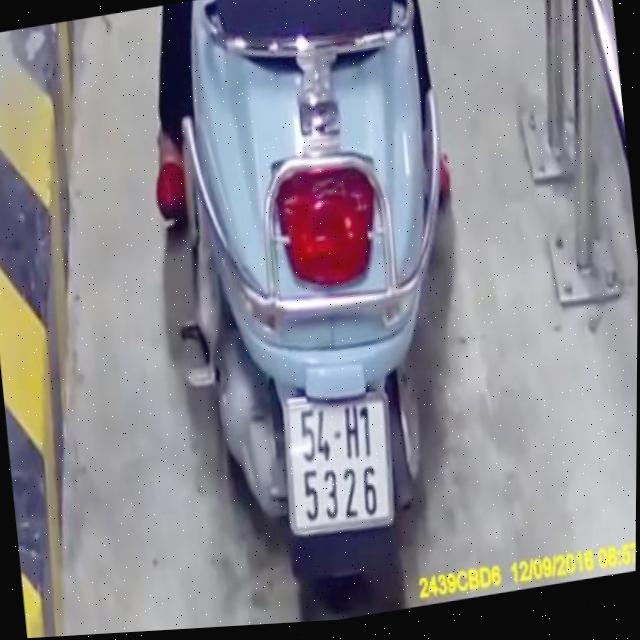motorcycle: (132, 0, 501, 632)
plate: (271, 378, 405, 547)
